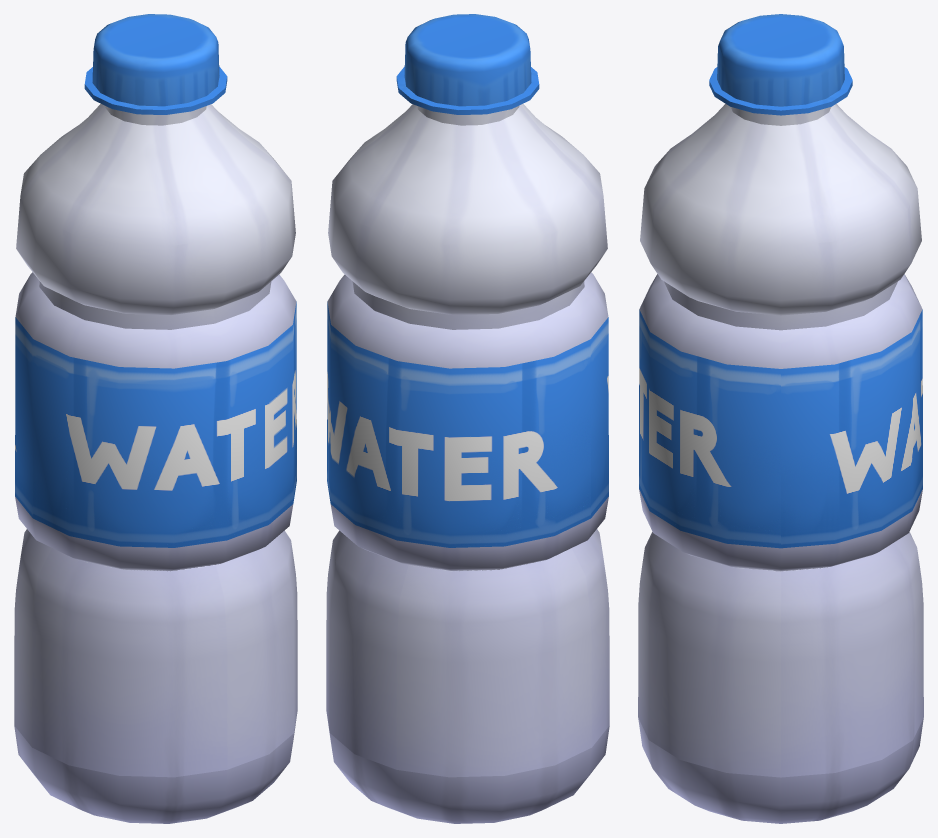
File: waterbottle.fbx
3 views of the same model, side by side, from view 1: azimuth 30°, elevation 25°; view 2: azimuth 150°, elevation 25°; view 3: azimuth 270°, elevation 25° (orthographic).
Visible parts, largest first — view 1: waterBottle; view 2: waterBottle; view 3: waterBottle.
Boxes of the visible parts, x1,y1,x2,y2 form: waterBottle: (14, 14, 297, 823); waterBottle: (326, 14, 609, 823); waterBottle: (638, 14, 923, 823).
Bounding box in the file's own units: 38.27 × 110 × 38.27.
1 material, 1 textured.
